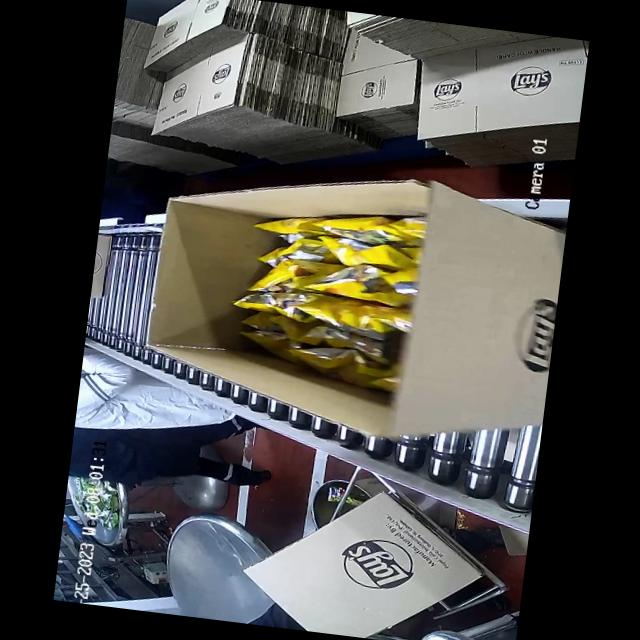salted: (219, 200, 417, 377)
